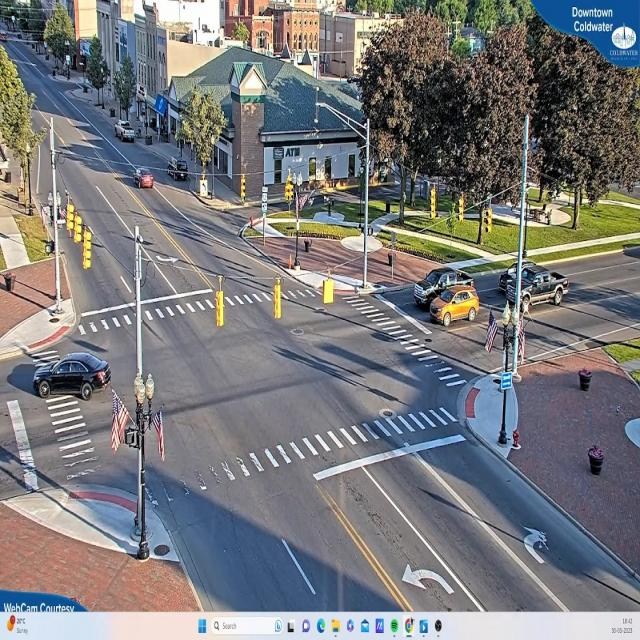car: (32, 356, 108, 399), (509, 266, 567, 309), (430, 285, 480, 326), (413, 265, 450, 304), (122, 167, 154, 189), (115, 124, 136, 143)
